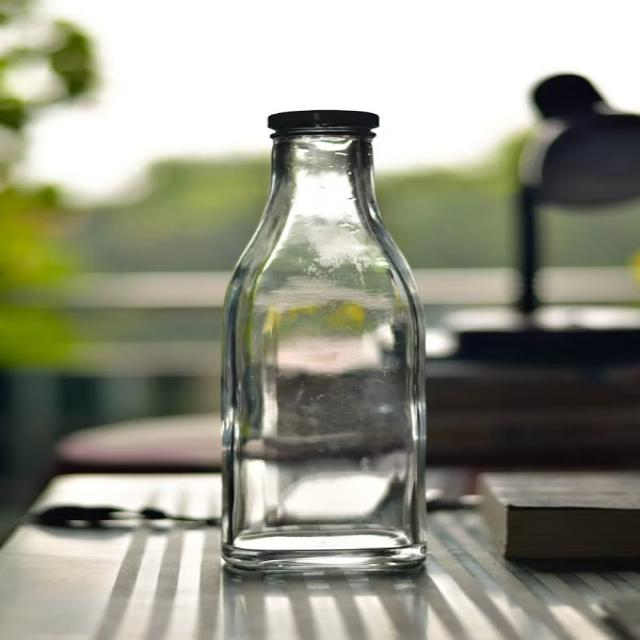Bottle: (222, 111, 425, 570)
